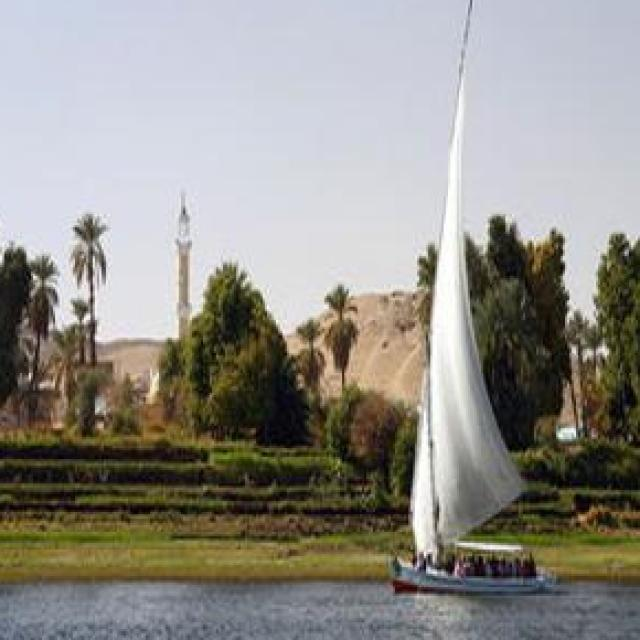sailboat: (388, 0, 560, 594)
